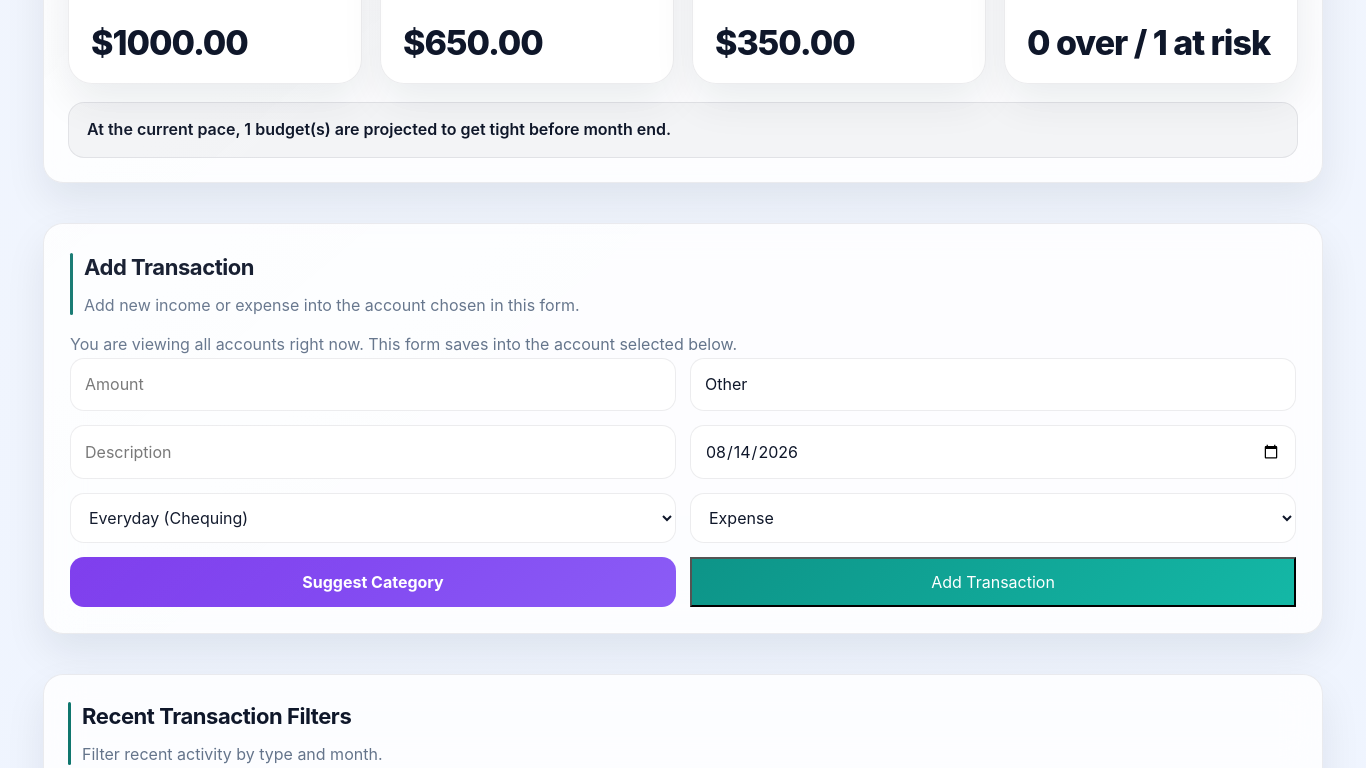
Test: DashboardPage › adds a manual transaction with the selected account and refreshes dashboard data
(page scrolled)
Step 1. Type "42.75" into the number field with placeholder "Amount" → (373, 384), box [70,358,676,410]
Step 2. Replace the text in the field with placeholder "Category" with "restaurant" → (993, 384), box [690,358,1296,410]
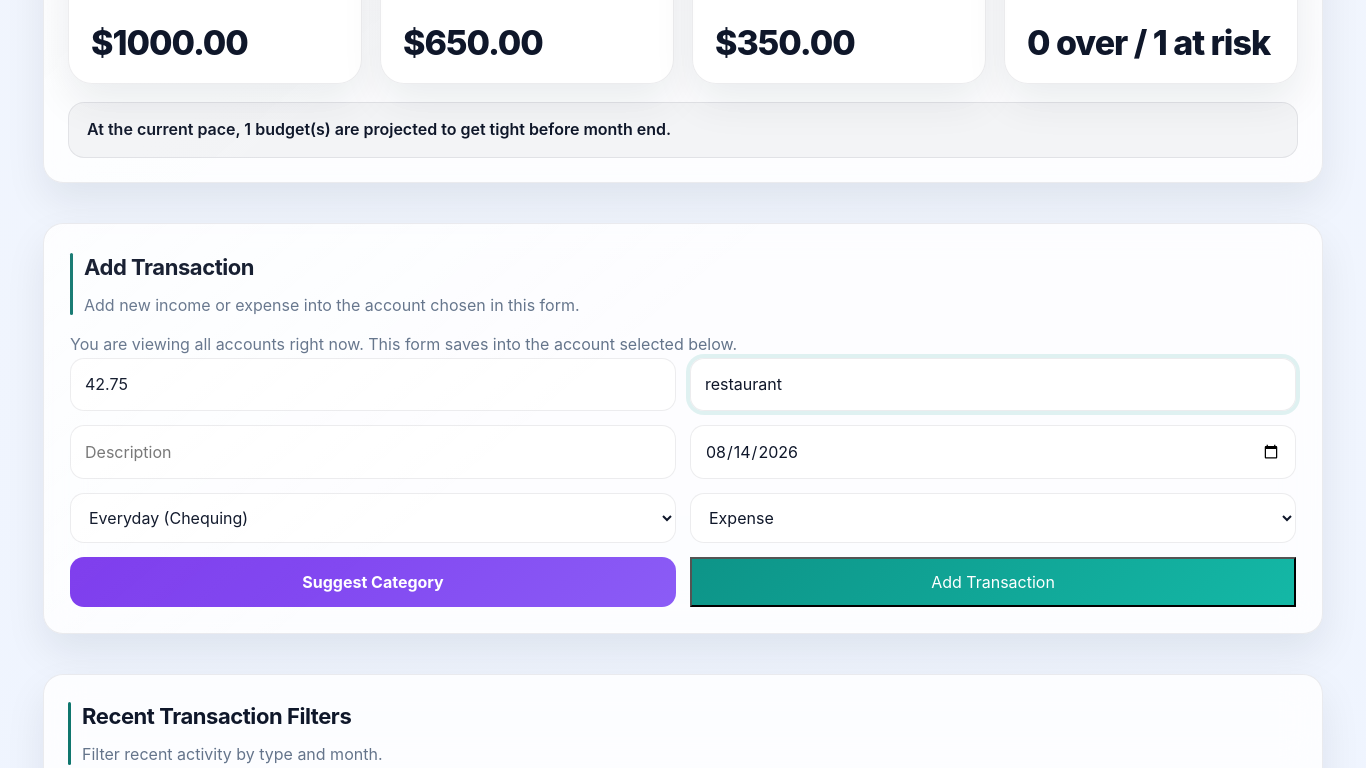
Step 3. Type "Lunch meeting" into the field with placeholder "Description" → (373, 452), box [70,424,676,479]
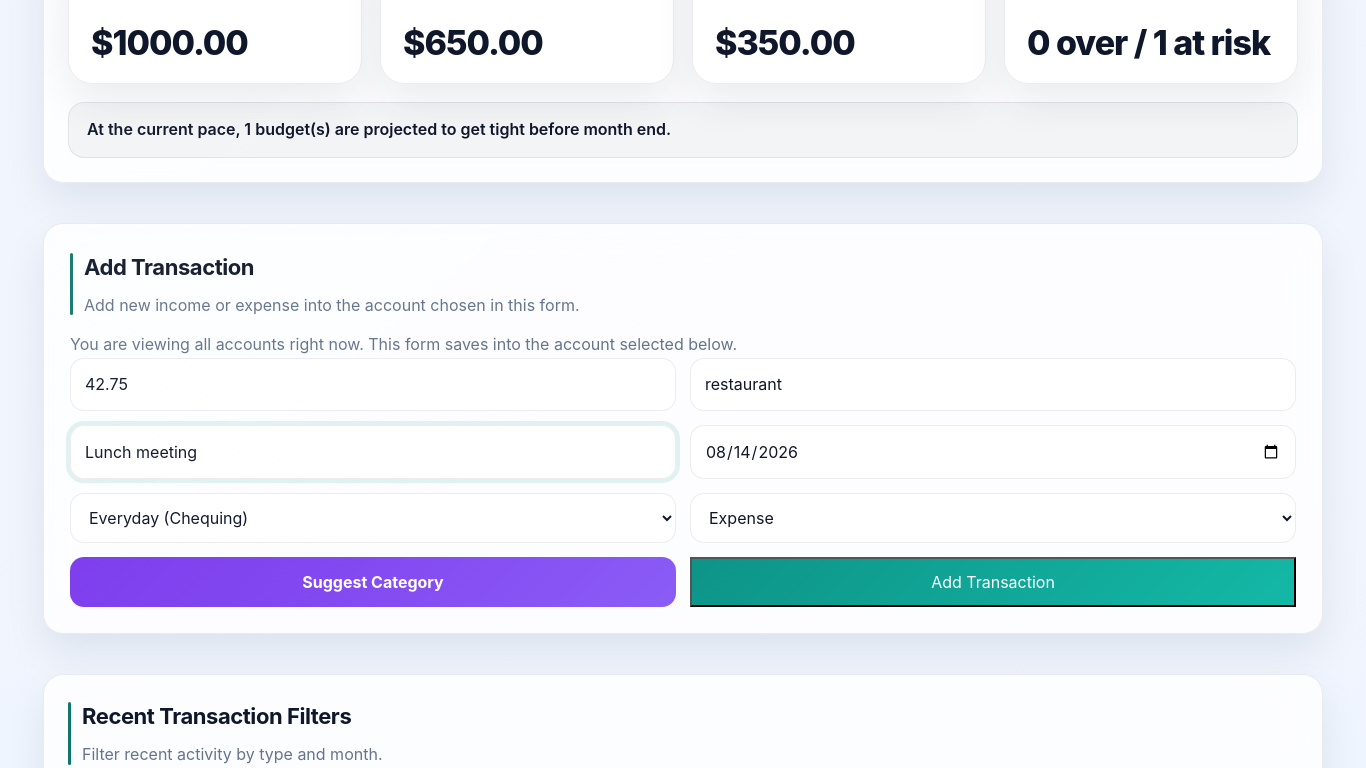
Step 4. Type "2026-05-10" into the date field → (993, 452), box [690,424,1296,479]
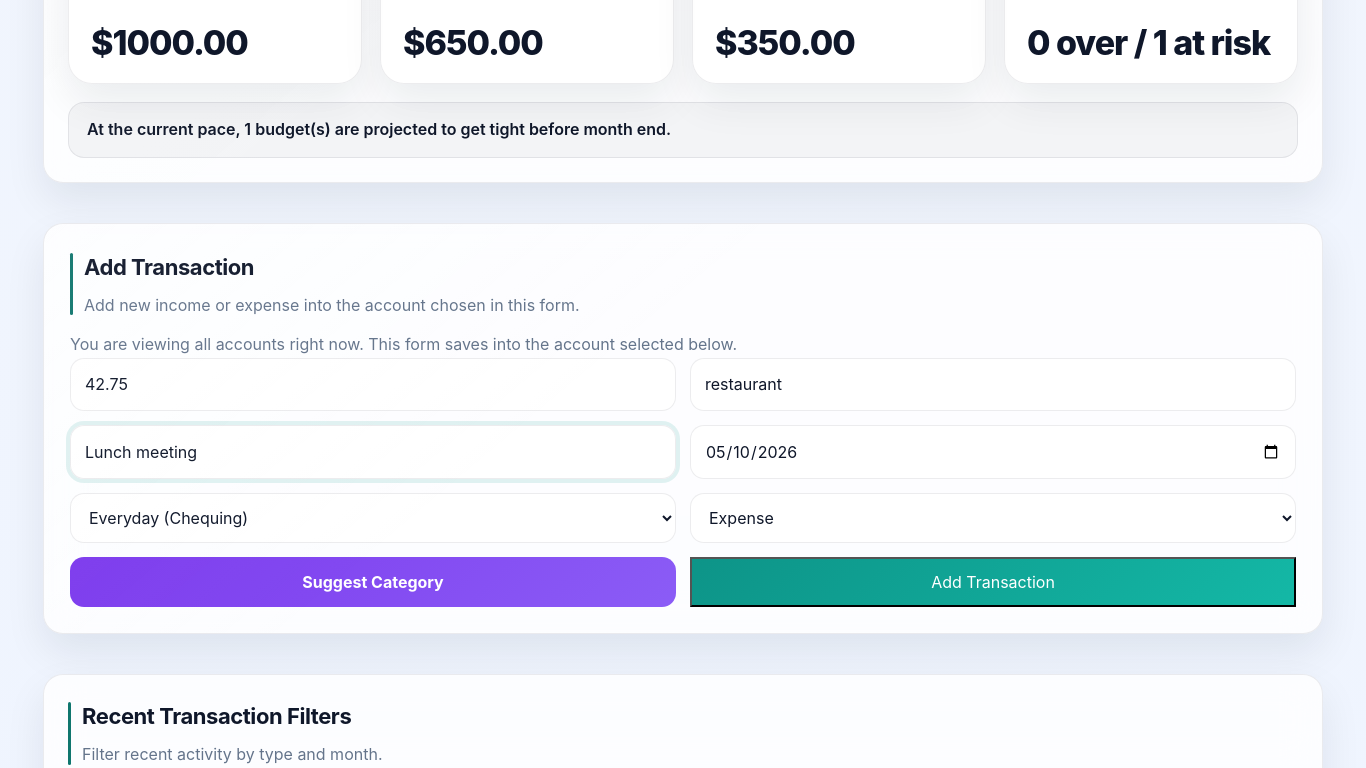
Step 5. Select "Savings (Savings)" in the 1st dropdown → (373, 518), box [70,493,676,543]
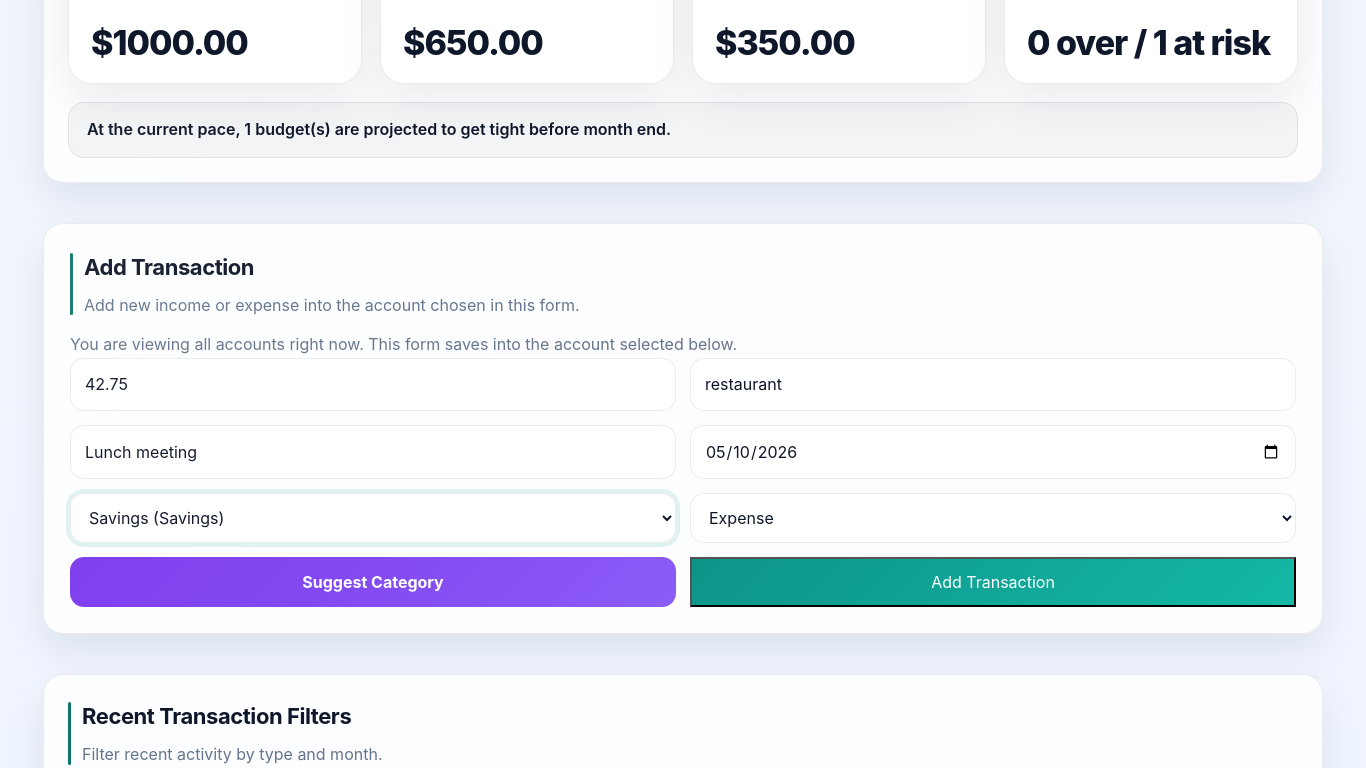
Step 6. Select "Expense" in the 2nd dropdown → (993, 518), box [690,493,1296,543]
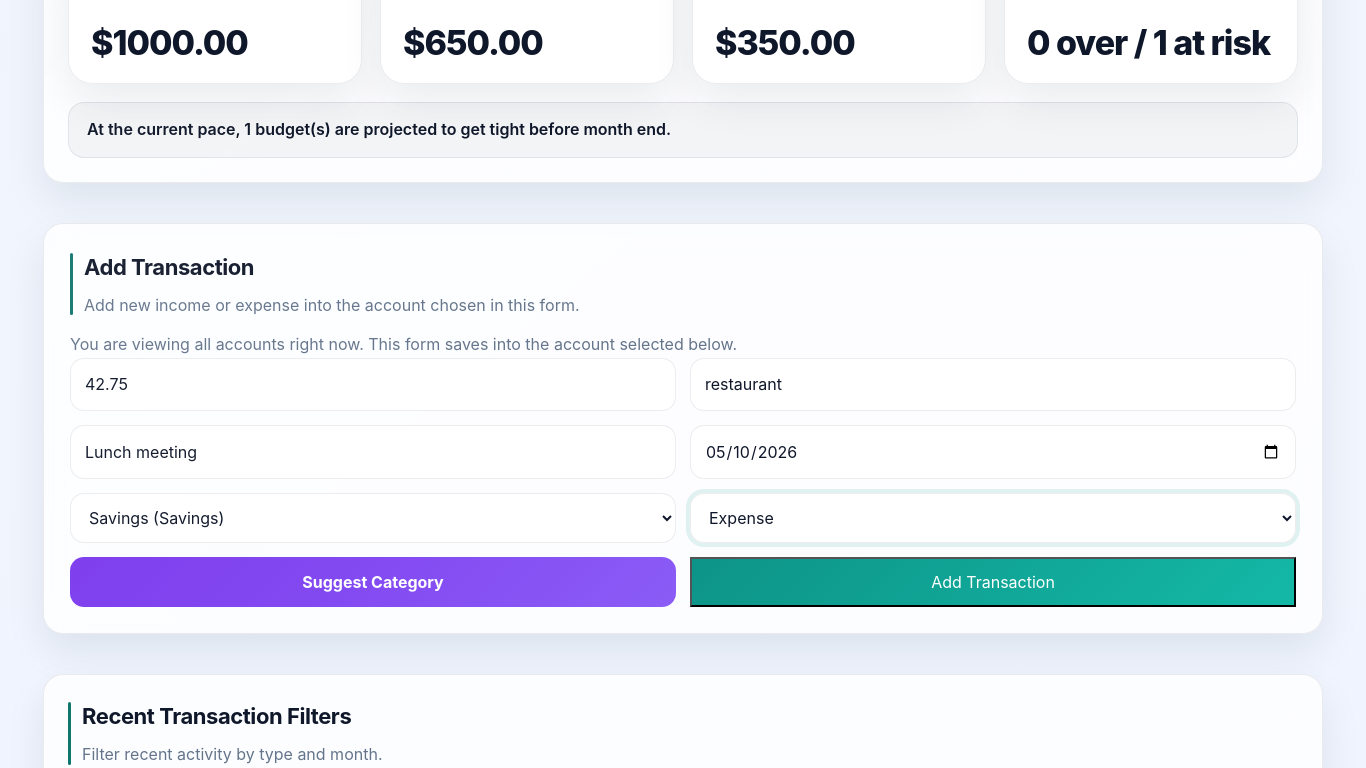
Step 7. Click the button "Add Transaction" → (993, 582), box [690,557,1296,607]
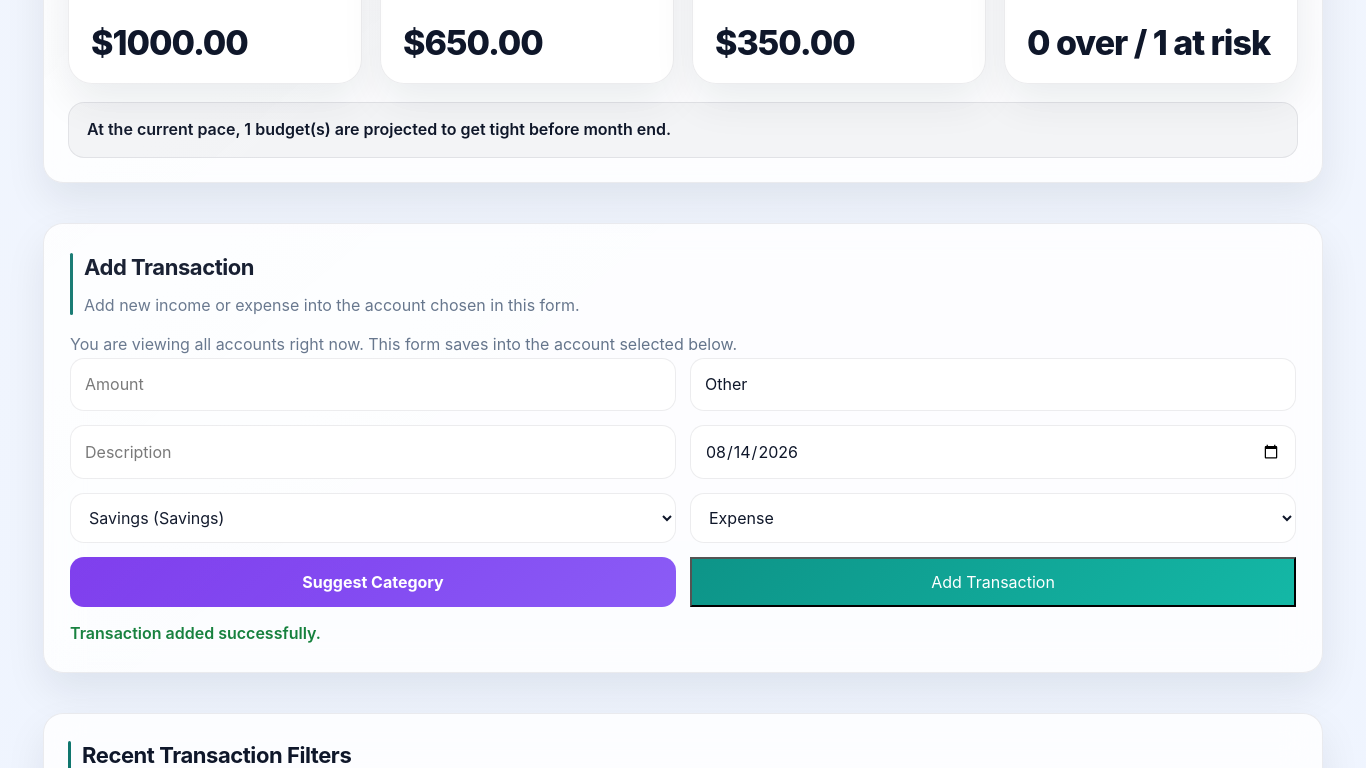
Expected: the text "Transaction added successfully." is shown, [70,623,321,643]
